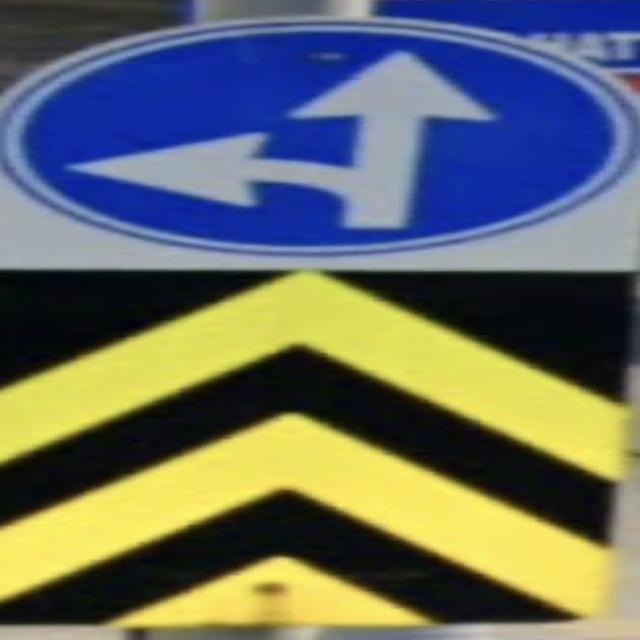Straight or Left: (8, 22, 629, 255)
